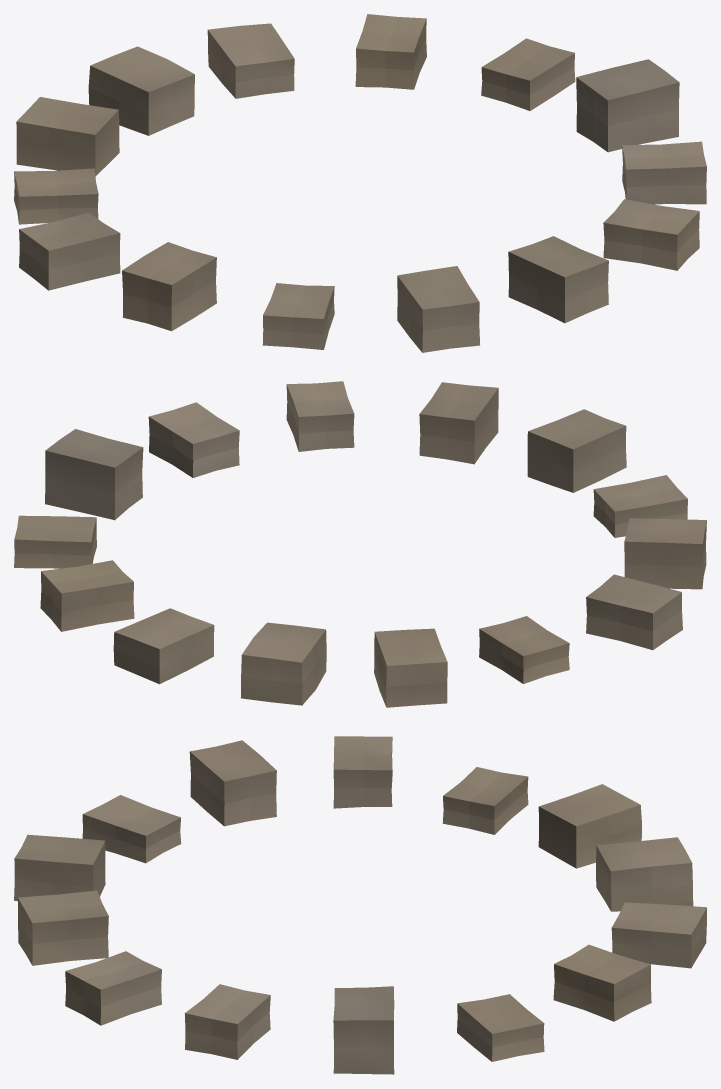
The model's file is cave_pool_rim.709ad64c.glb.
3 renders of one model, top to bottom at view 1: azimuth 30°, elevation 25°; view 2: azimuth 150°, elevation 25°; view 3: azimuth 270°, elevation 25°, orthographic. The views are drawn at different scales.
Parts seen in each view (by area): view 1: cave_pool_rim; view 2: cave_pool_rim; view 3: cave_pool_rim.
Part boxes in pixels (x1=…): cave_pool_rim: x1=14, y1=14, x2=706, y2=352; cave_pool_rim: x1=14, y1=381, x2=706, y2=707; cave_pool_rim: x1=14, y1=736, x2=706, y2=1074.
Bounding box in the file's own units: 3.42 × 0.3016 × 3.34.
